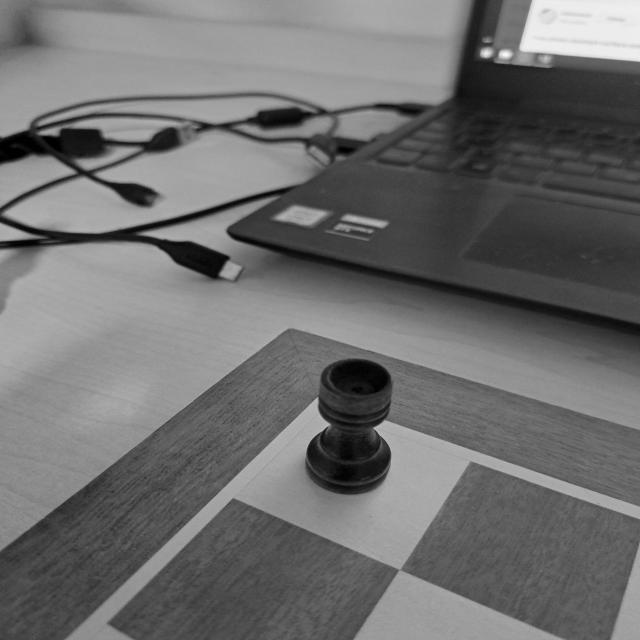chess-table-corners: (256, 378, 389, 448)
